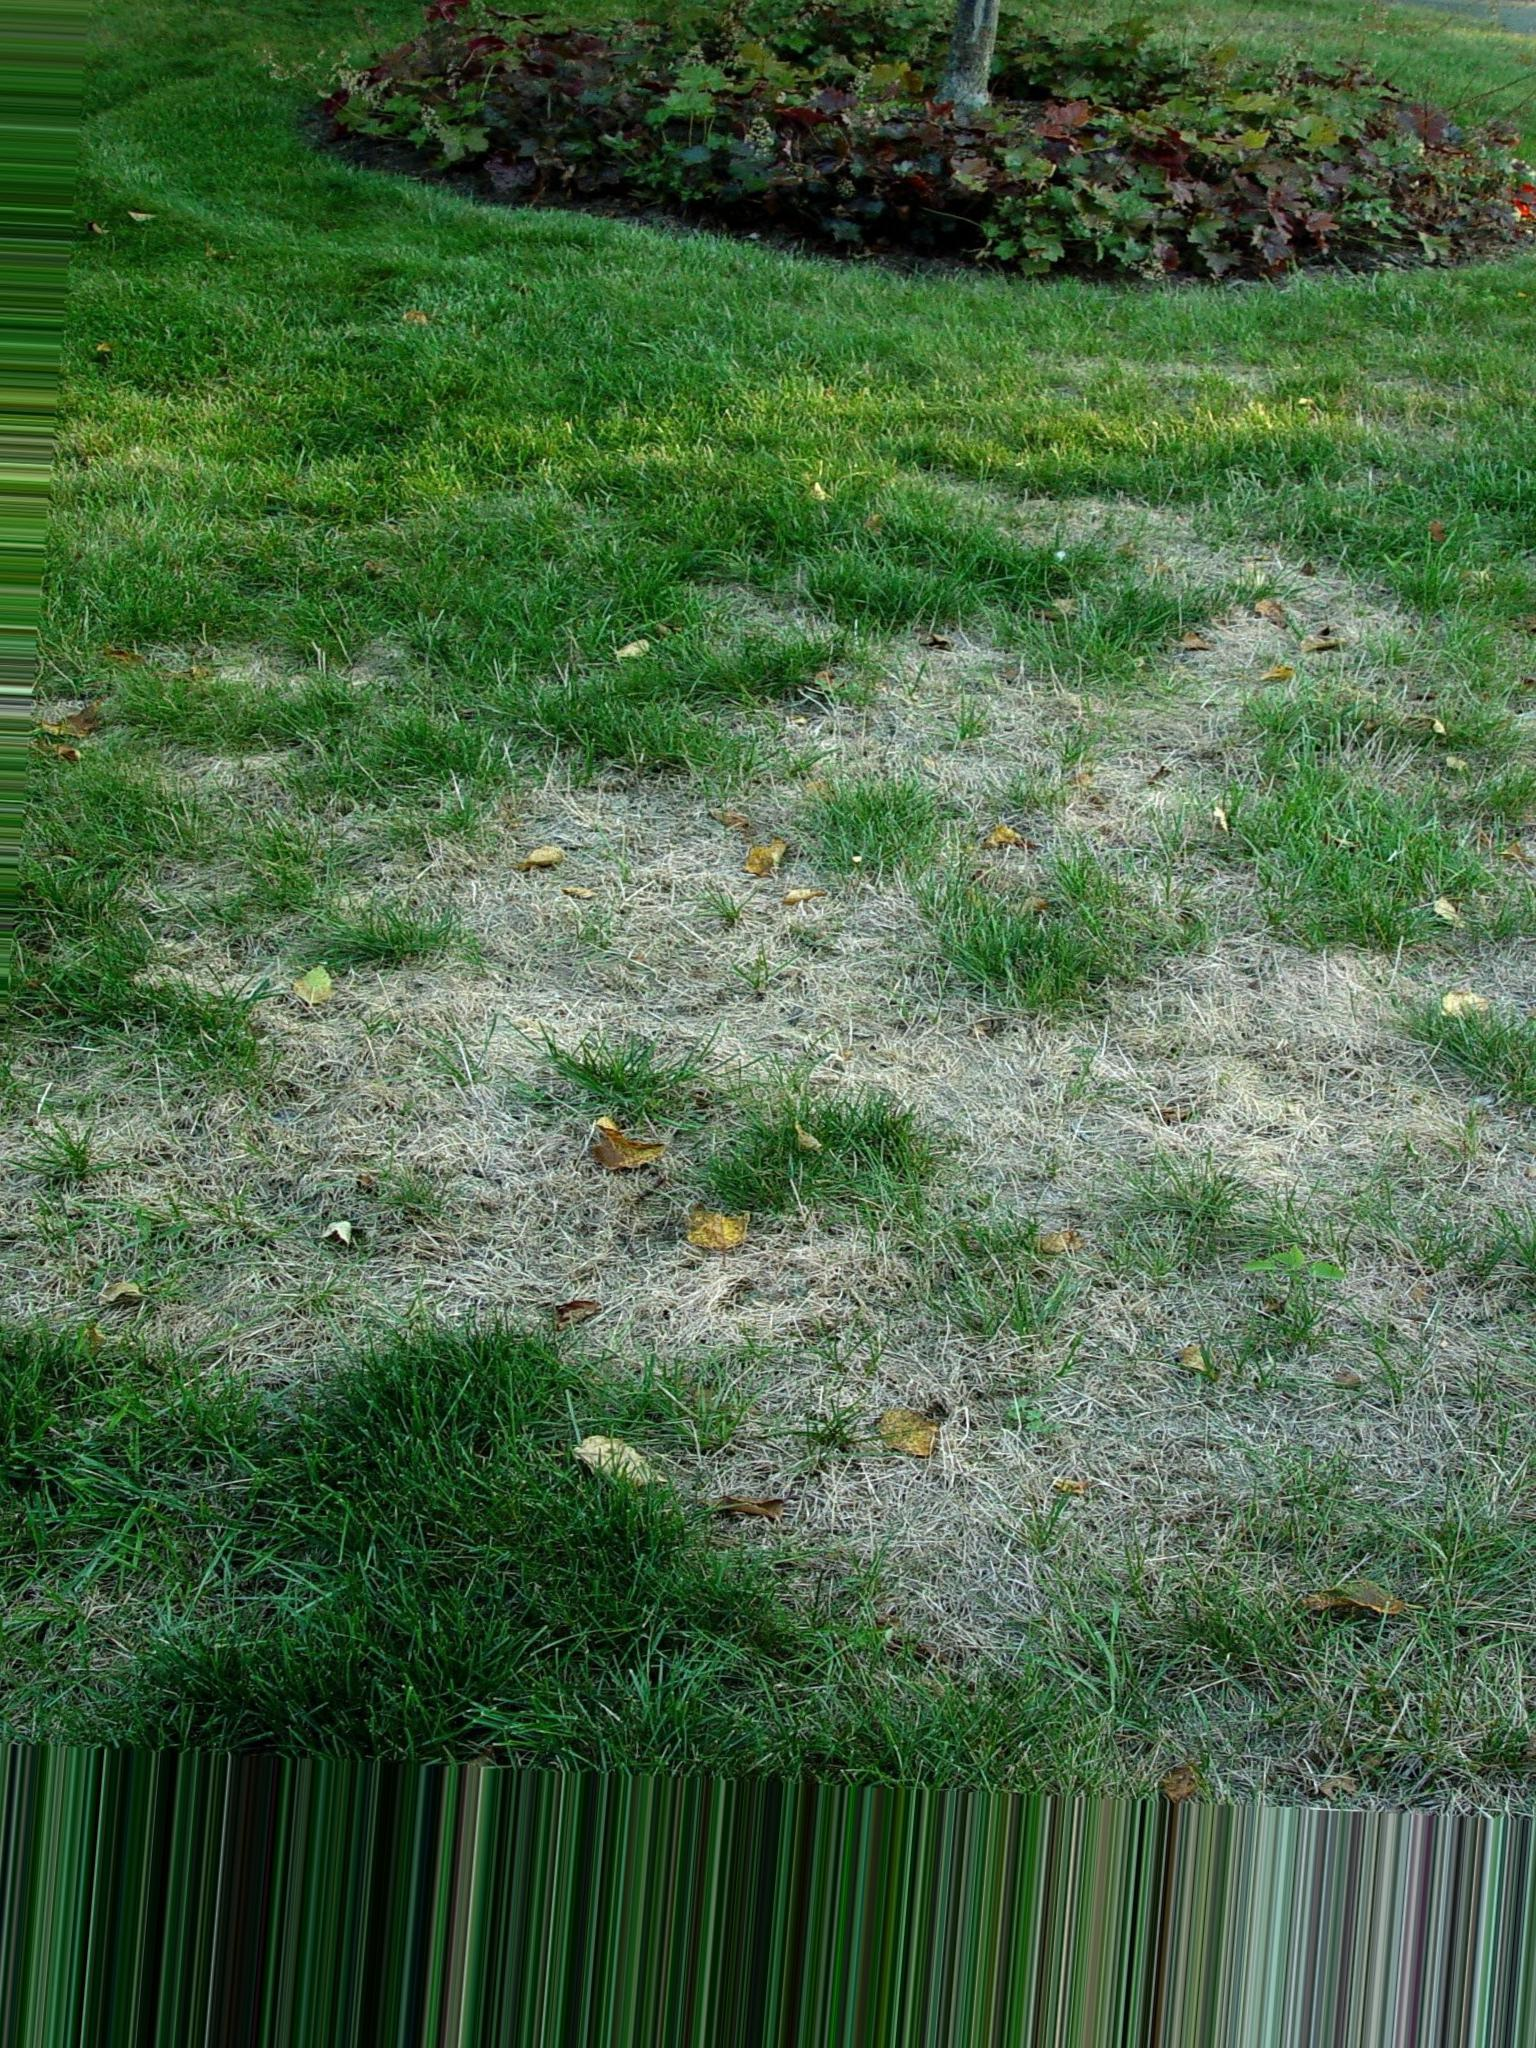patch: (508, 832, 1405, 1522)
